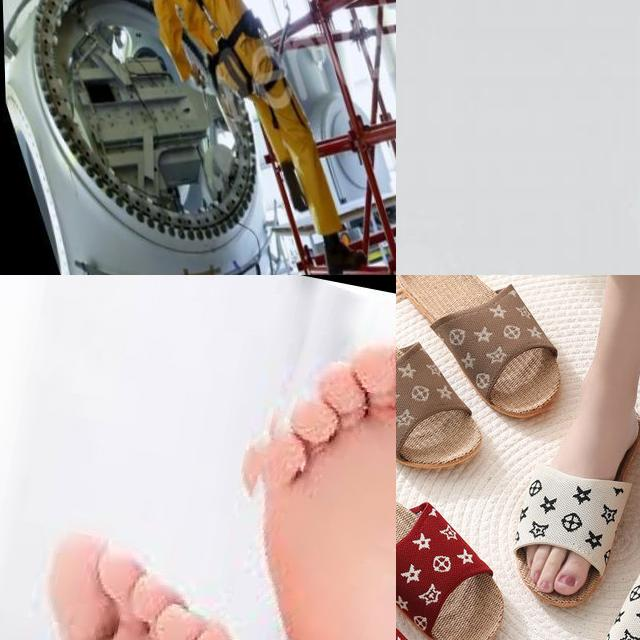Barefoots: (234, 323, 396, 640), (32, 522, 244, 640)
Harness: (191, 0, 265, 102)
Sandals: (452, 371, 640, 640)
